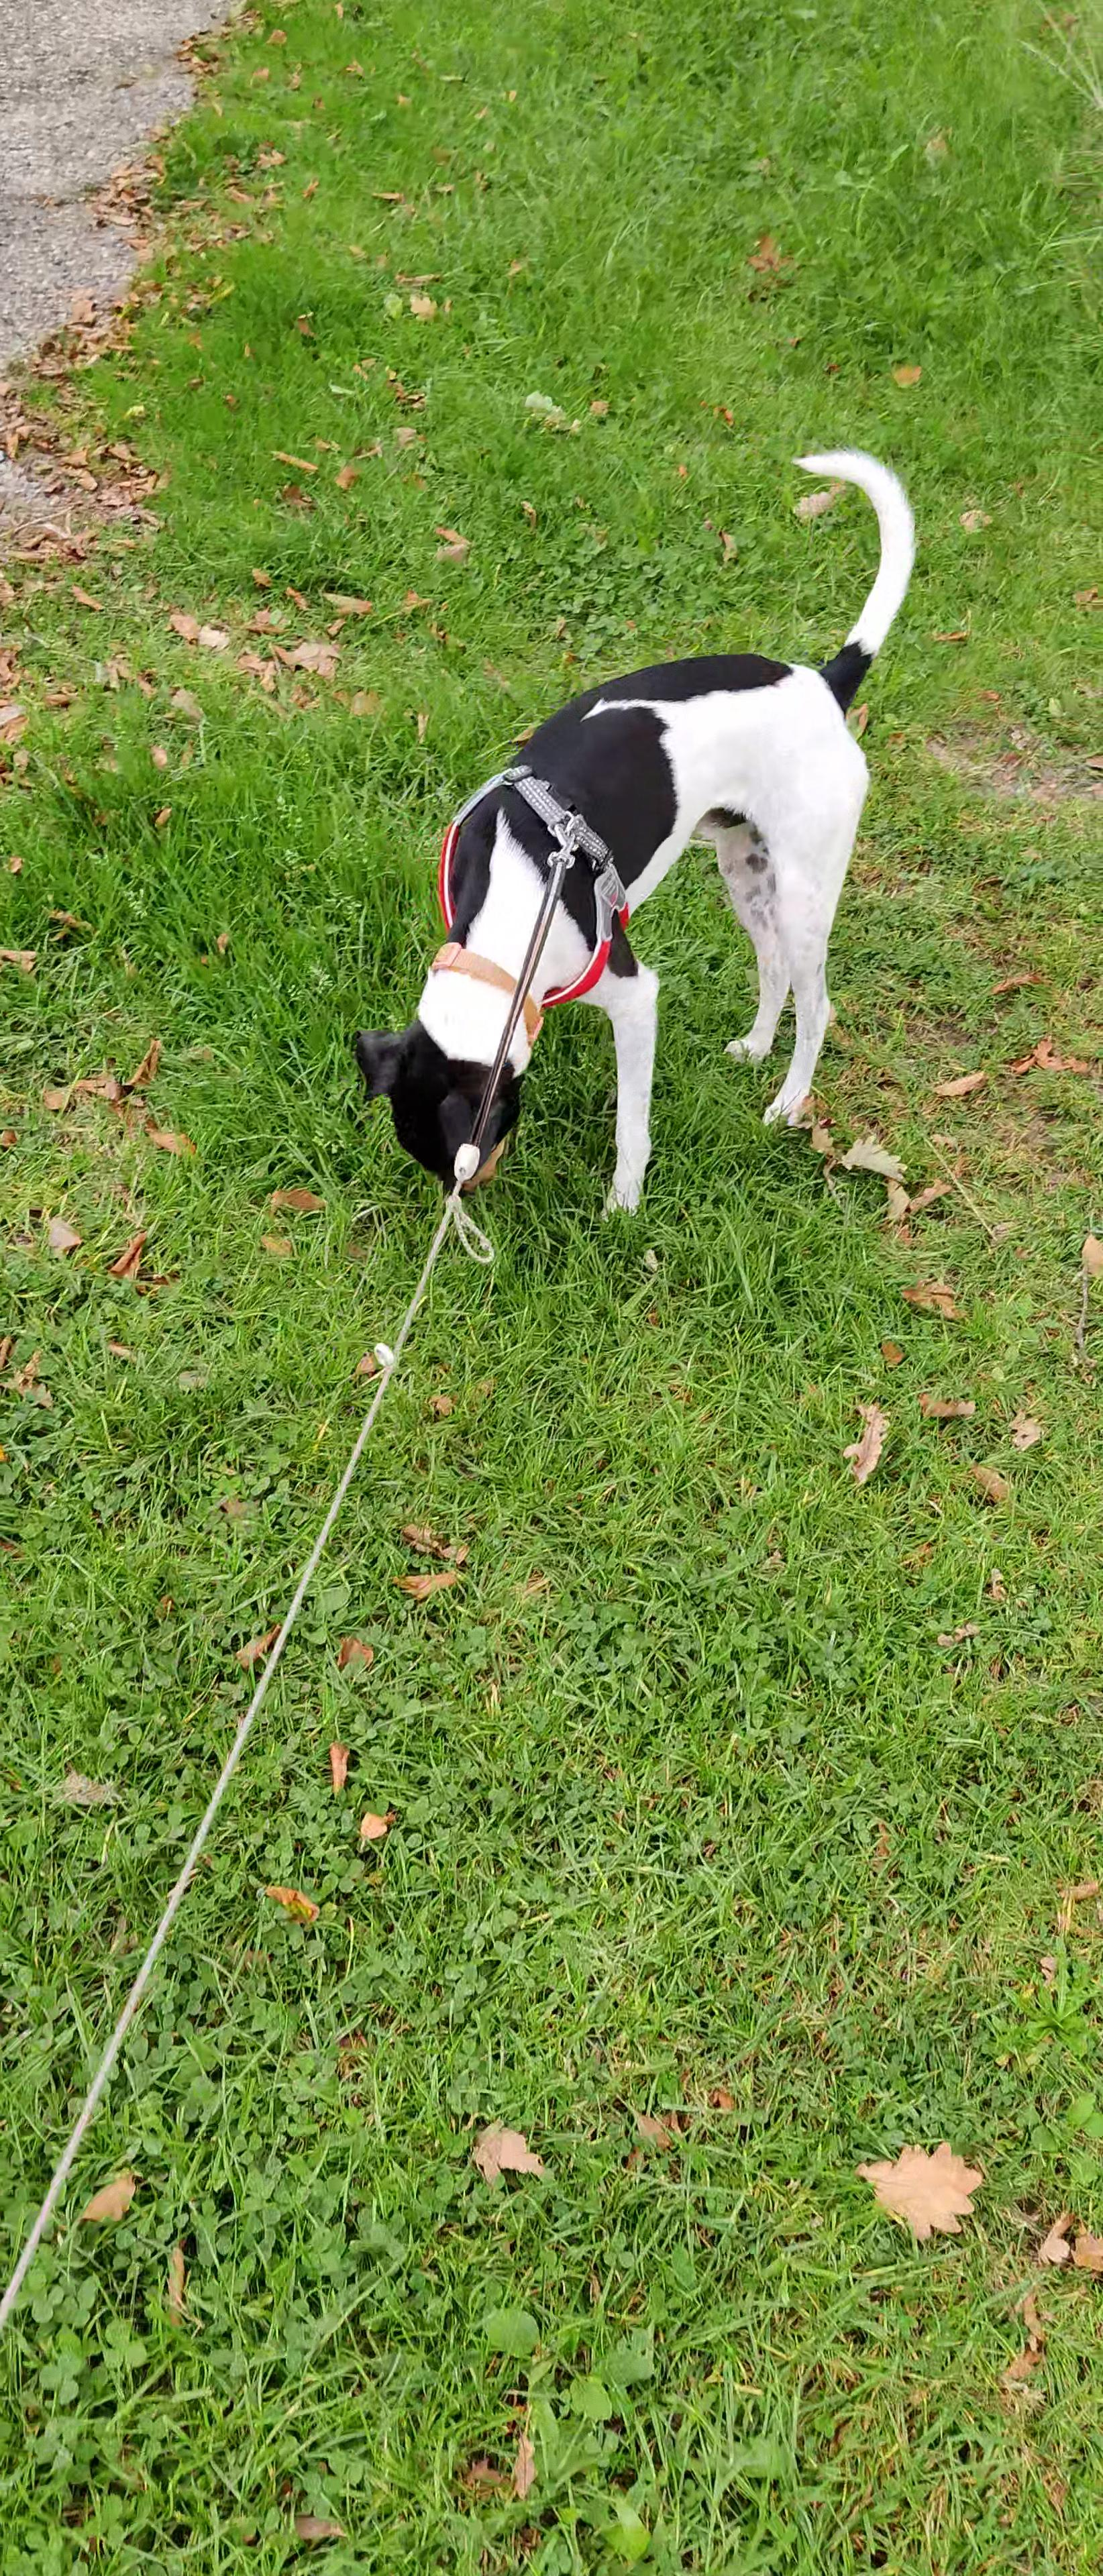Dog: (332, 445, 927, 1214)
